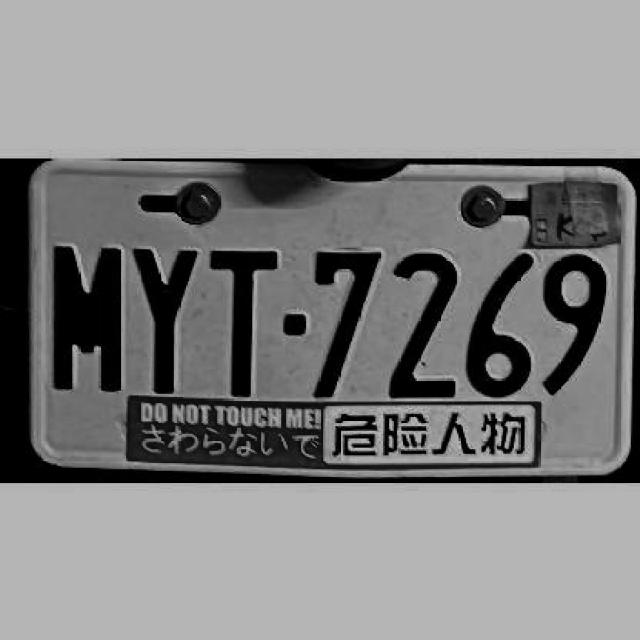-: (284, 311, 308, 335)
2: (384, 245, 462, 404)
6: (463, 250, 537, 402)
7: (313, 249, 382, 400)
9: (537, 251, 608, 398)
M: (52, 240, 121, 389)
T: (211, 243, 278, 394)
Y: (126, 243, 202, 392)
